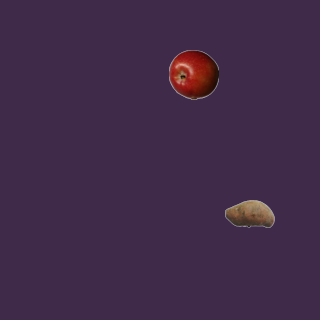Apple Braeburn: (168, 49, 218, 99)
Potato Sweet: (224, 188, 274, 238)
